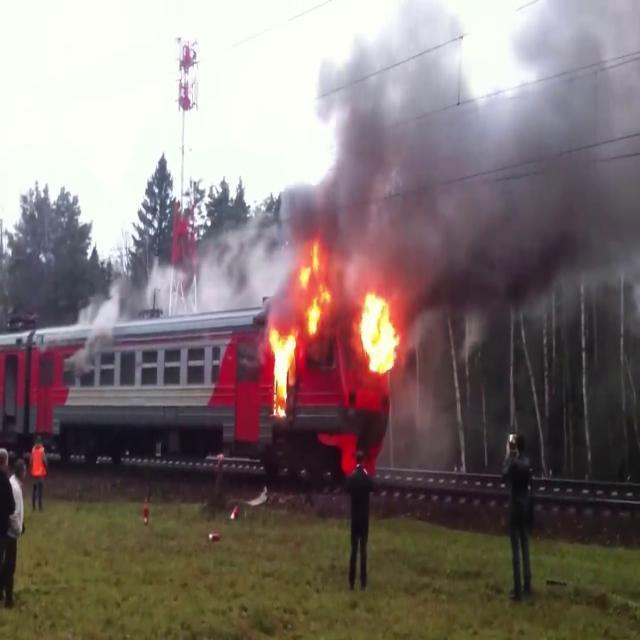Fire: (264, 242, 332, 411), (355, 283, 403, 377), (266, 318, 300, 412)
Smoke: (285, 0, 640, 306), (188, 204, 290, 320)
